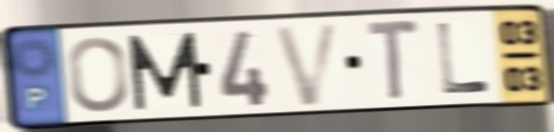4: (216, 26, 274, 110)
L: (433, 20, 493, 97)
M: (124, 29, 206, 114)
O: (65, 34, 131, 115)
T: (363, 17, 423, 106)
V: (270, 19, 345, 110)
